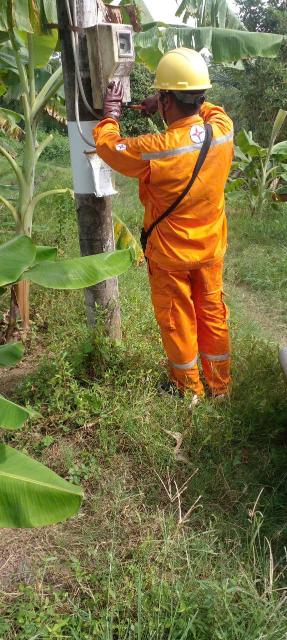gloves: (91, 66, 130, 127)
helmet: (145, 45, 221, 93)
shoes: (152, 379, 201, 405)
